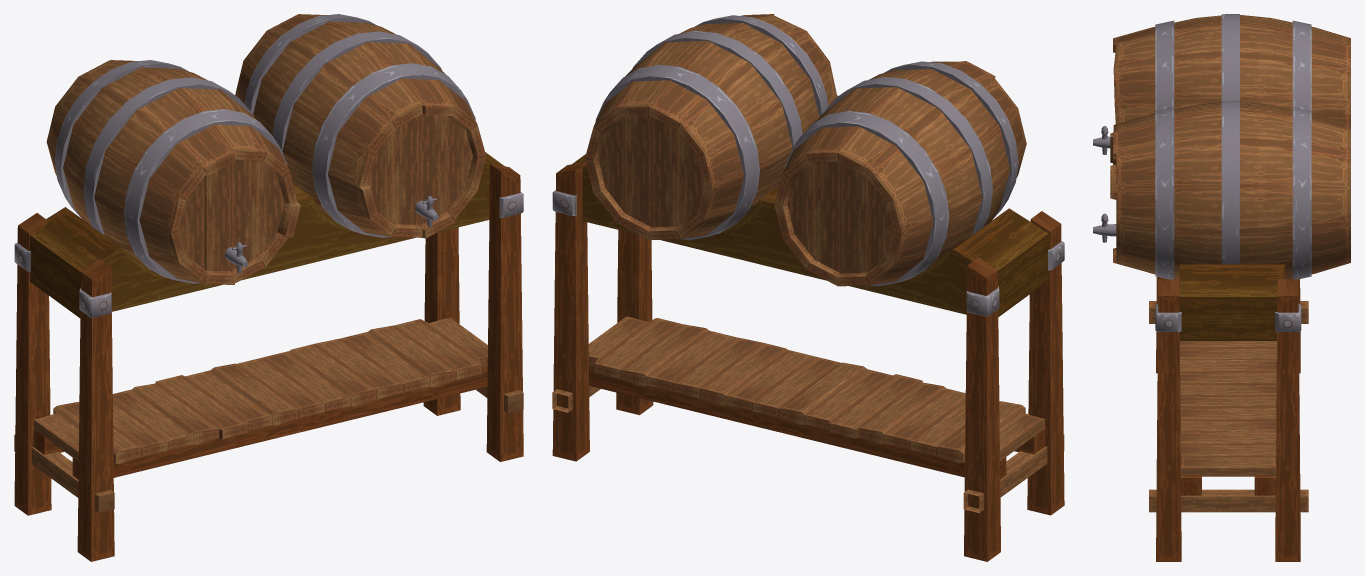
The model's file is Barrel_Holder.glb.
3 renders of one model, left to right at view 1: azimuth 30°, elevation 25°; view 2: azimuth 150°, elevation 25°; view 3: azimuth 270°, elevation 25°, orthographic. The views are drawn at different scales.
Visible parts, largest first — view 1: Barrel_Holder; view 2: Barrel_Holder; view 3: Barrel_Holder.
Boxes of the visible parts, bbox=[...] form: Barrel_Holder: bbox=[14, 14, 523, 561]; Barrel_Holder: bbox=[552, 14, 1064, 561]; Barrel_Holder: bbox=[1093, 14, 1350, 561].
Bounding box in the file's own units: 1.36 × 1.26 × 0.741.
Materials: 2 (2 with a texture image).
